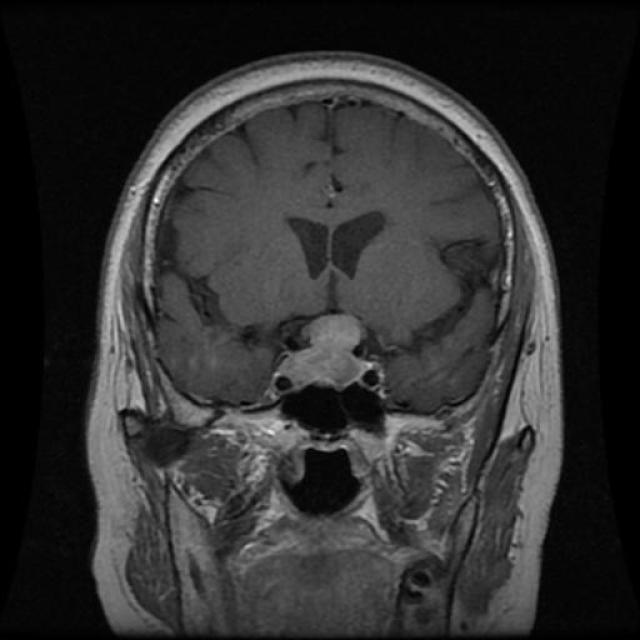brain_tumor: (290, 312, 372, 390)
